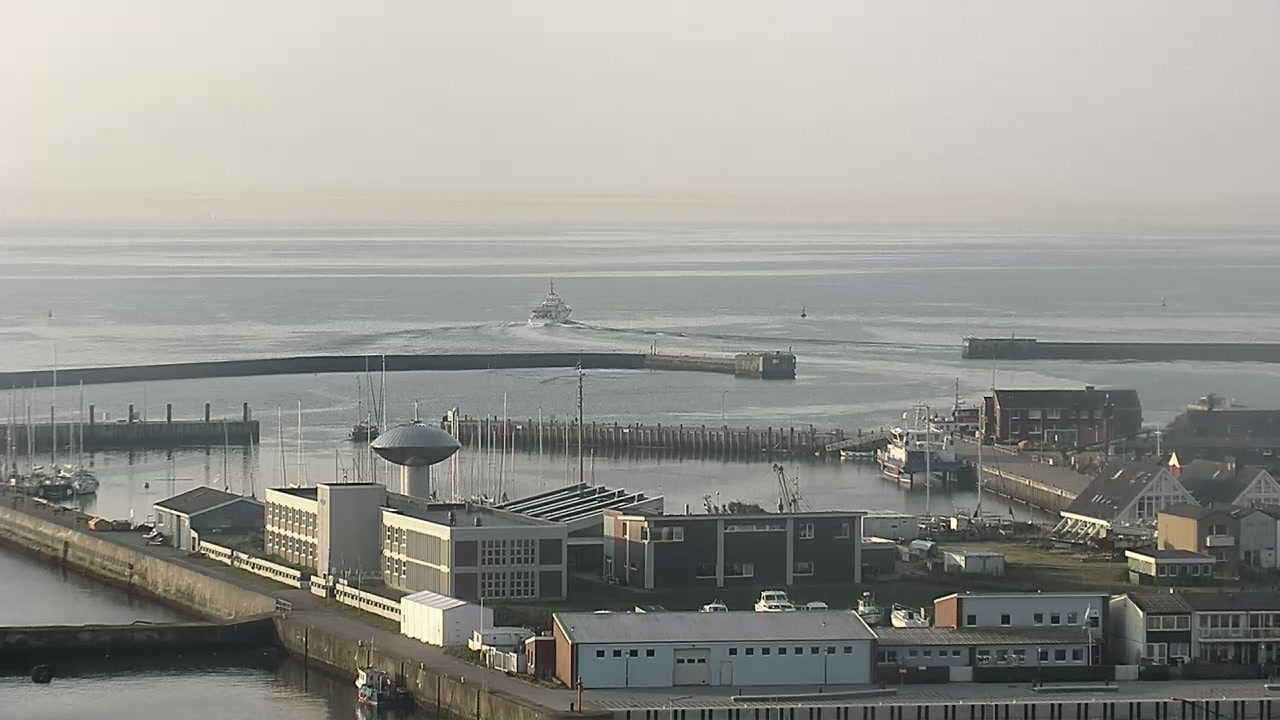sea: (961, 409, 1033, 529), (34, 339, 68, 501), (66, 376, 98, 494), (351, 641, 406, 707), (14, 377, 43, 496), (346, 356, 378, 442), (525, 274, 573, 325), (1185, 392, 1259, 412), (889, 595, 933, 628), (853, 587, 886, 624), (755, 588, 798, 612), (698, 598, 730, 613)
